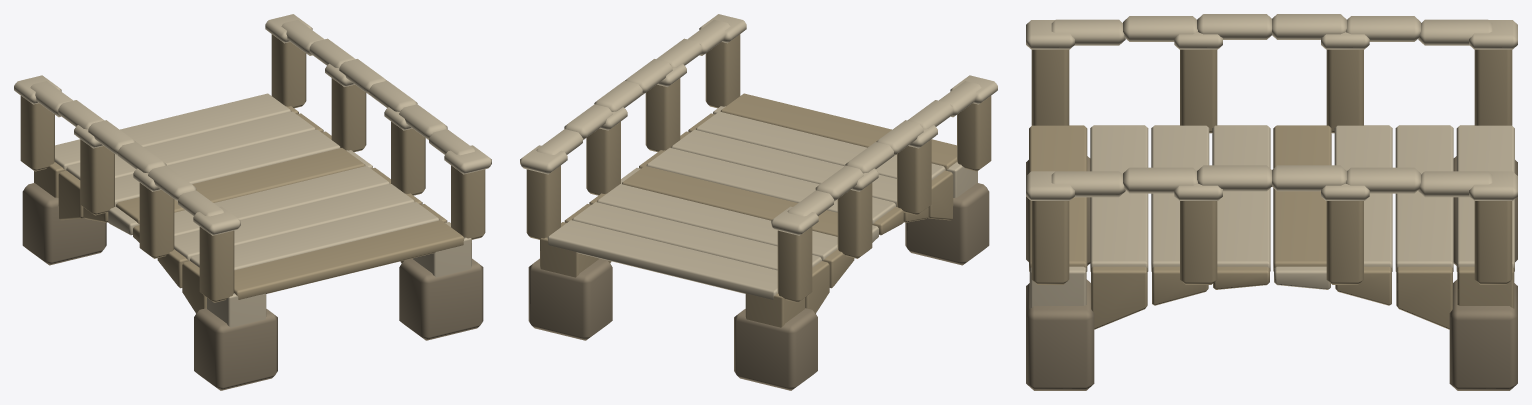
The model's file is stone_crossing_atelier.glb.
3 renders of one model, left to right at view 1: azimuth 30°, elevation 25°; view 2: azimuth 150°, elevation 25°; view 3: azimuth 270°, elevation 25°, orthographic. The views are drawn at different scales.
Parts seen in each view (by area): view 1: stone_crossing_atelier__TaggedPainted_stone_crossing_atelier; view 2: stone_crossing_atelier__TaggedPainted_stone_crossing_atelier; view 3: stone_crossing_atelier__TaggedPainted_stone_crossing_atelier.
Part boxes in pixels (x1,y1,x2,y2): stone_crossing_atelier__TaggedPainted_stone_crossing_atelier: (14, 14, 491, 390); stone_crossing_atelier__TaggedPainted_stone_crossing_atelier: (520, 14, 997, 390); stone_crossing_atelier__TaggedPainted_stone_crossing_atelier: (1026, 14, 1517, 390).
Bounding box in the file's own units: 2.48 × 1.49 × 3.02.
